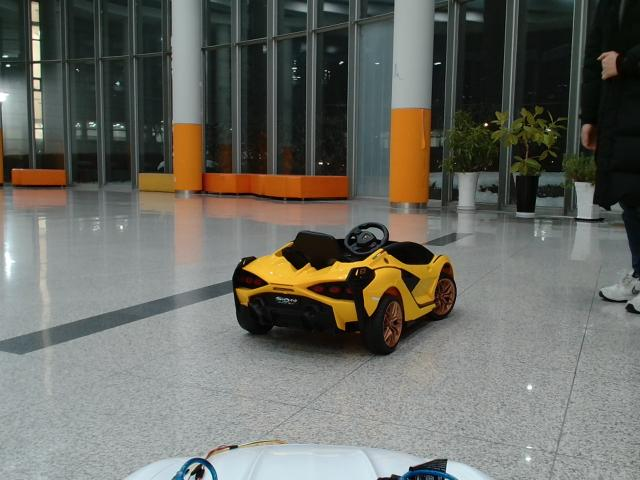car: (232, 222, 458, 355)
